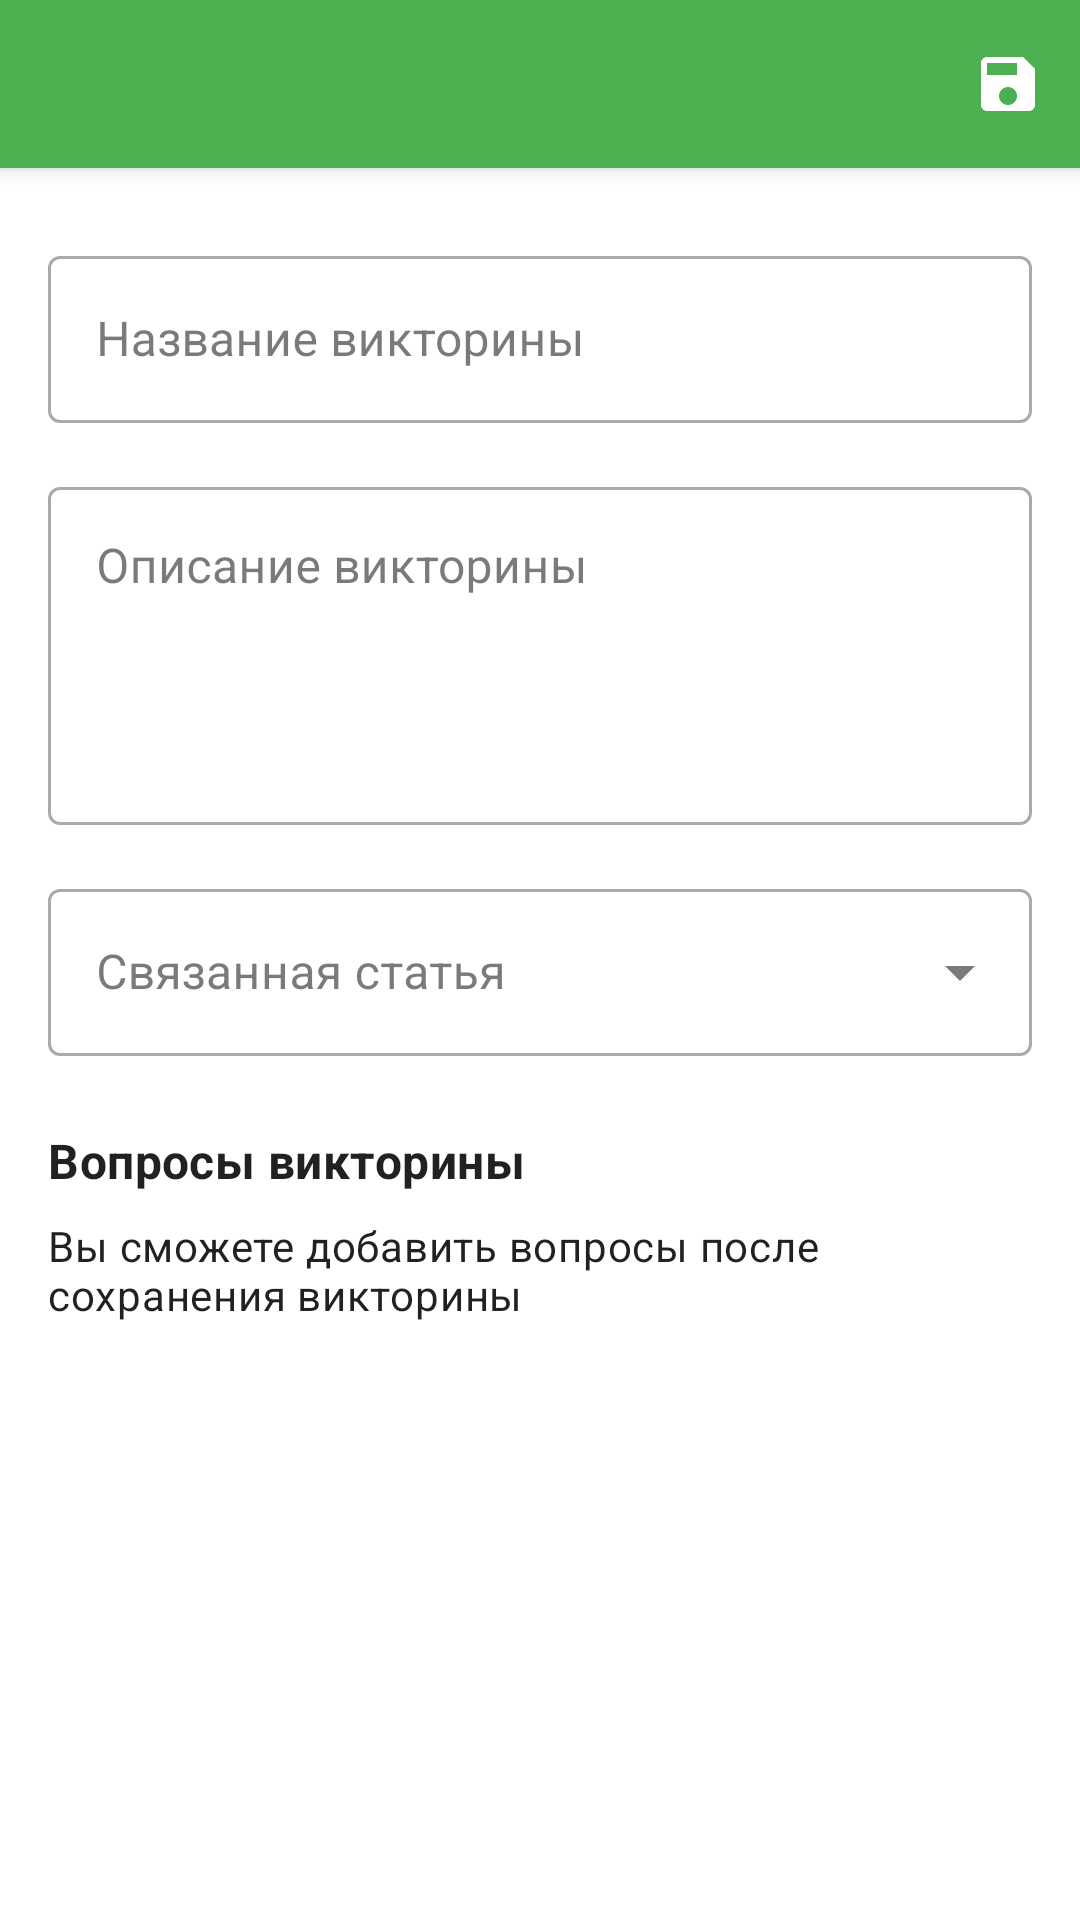

Named icons in this screenshot (1080x1920) and their bounding boxes, detection(x1, y1, x2, y2):
Сохранить: detection(981, 57, 1035, 111)
